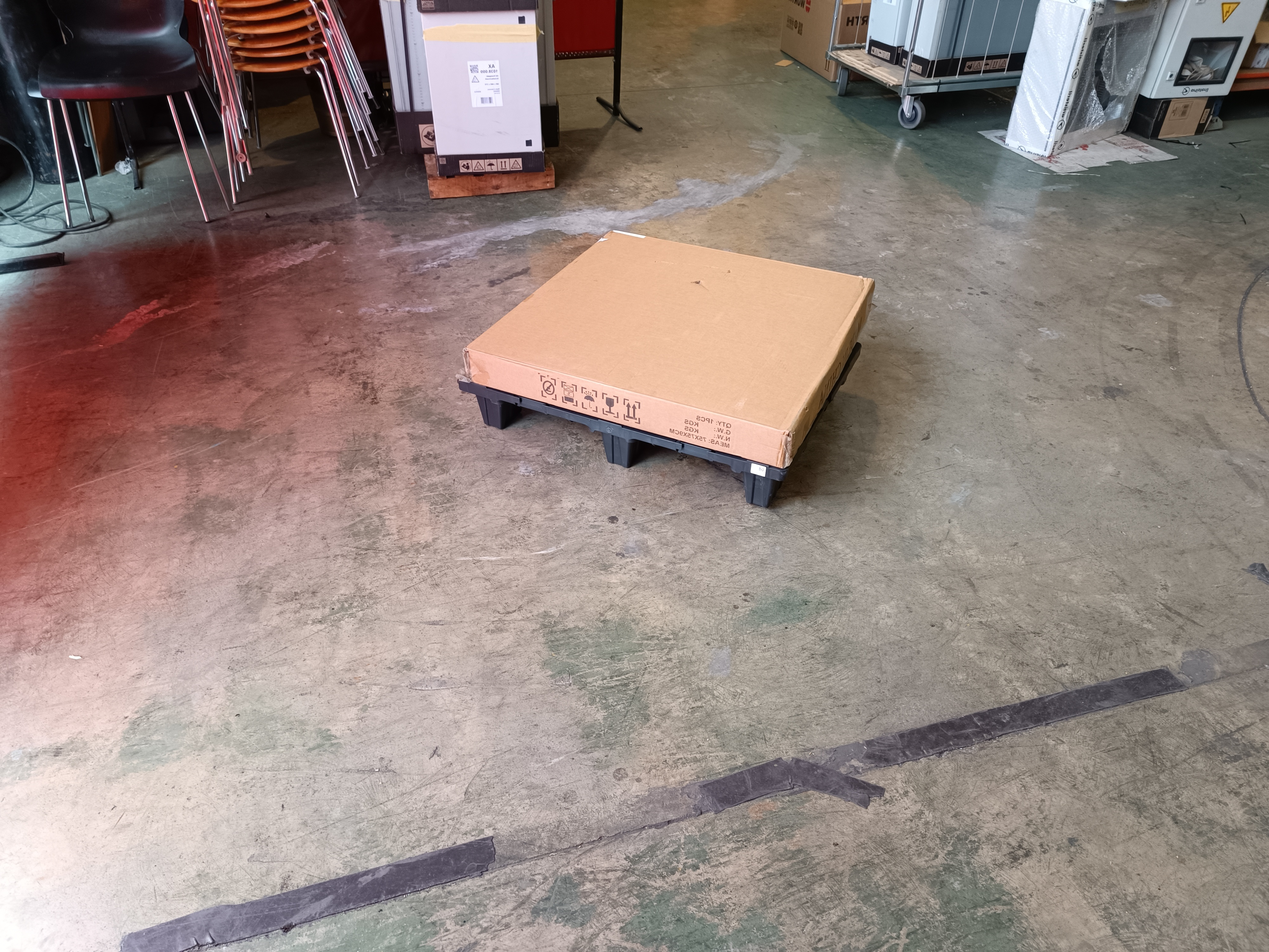block: (473, 391, 532, 430), (596, 432, 654, 469), (741, 475, 773, 510)
front: (461, 386, 794, 525)
hole pallet: (636, 440, 747, 509), (503, 407, 607, 466)
